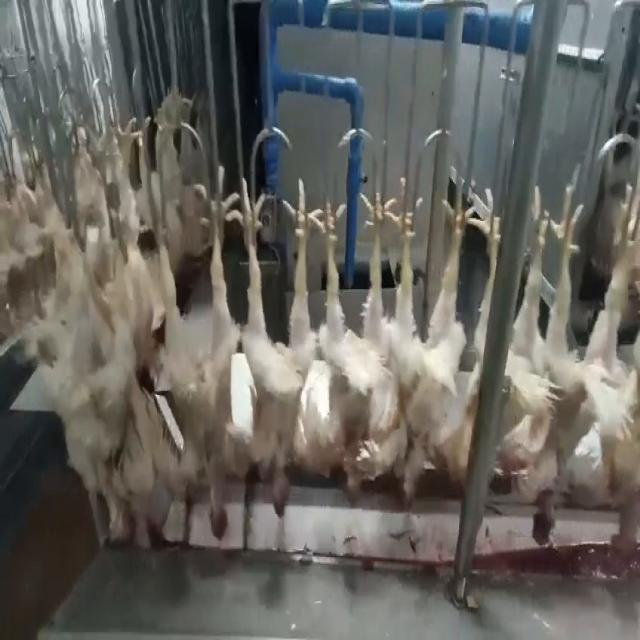chicken: (501, 165, 589, 558), (154, 166, 236, 537), (380, 163, 466, 504), (234, 173, 314, 519), (312, 169, 388, 499), (579, 174, 639, 574), (436, 178, 501, 492)
